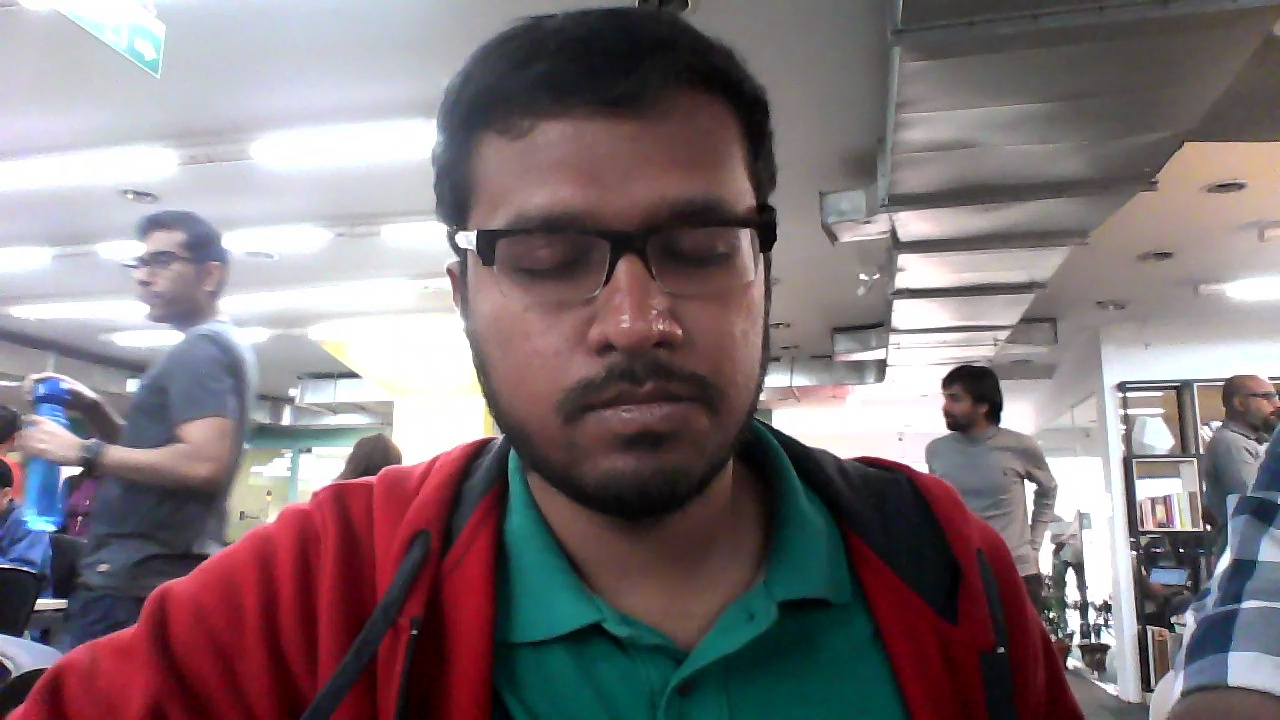closed: (431, 17, 792, 533)
